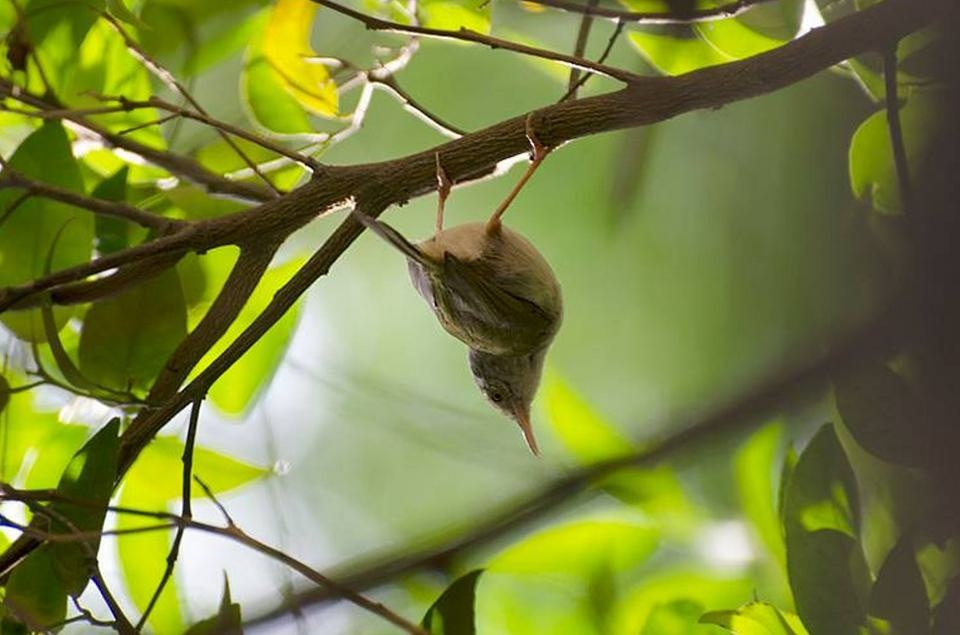tailorbird: (354, 105, 622, 481)
